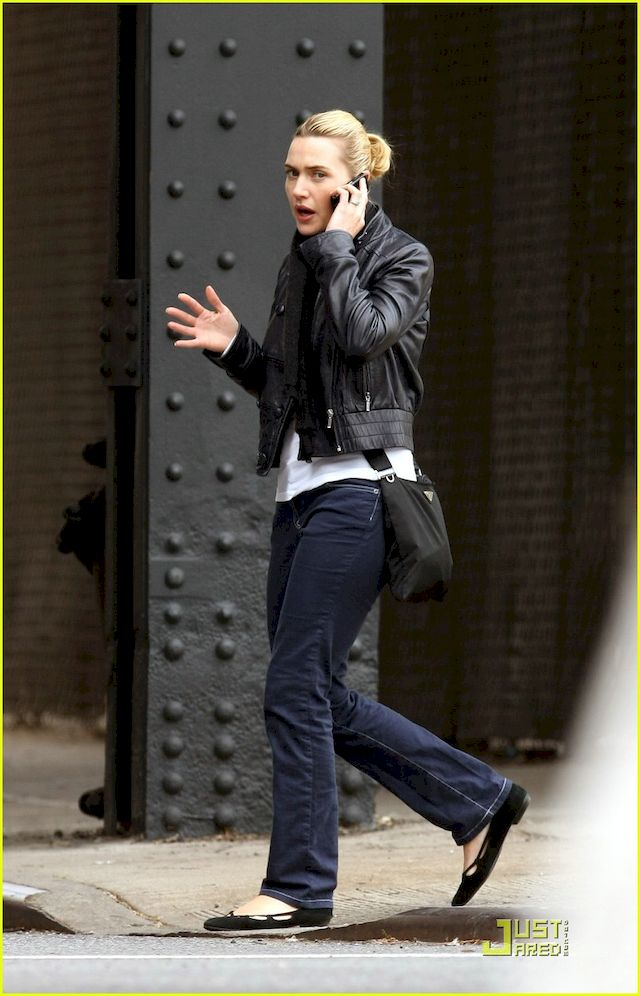phone: (334, 167, 372, 207)
talk: (282, 153, 375, 235)
